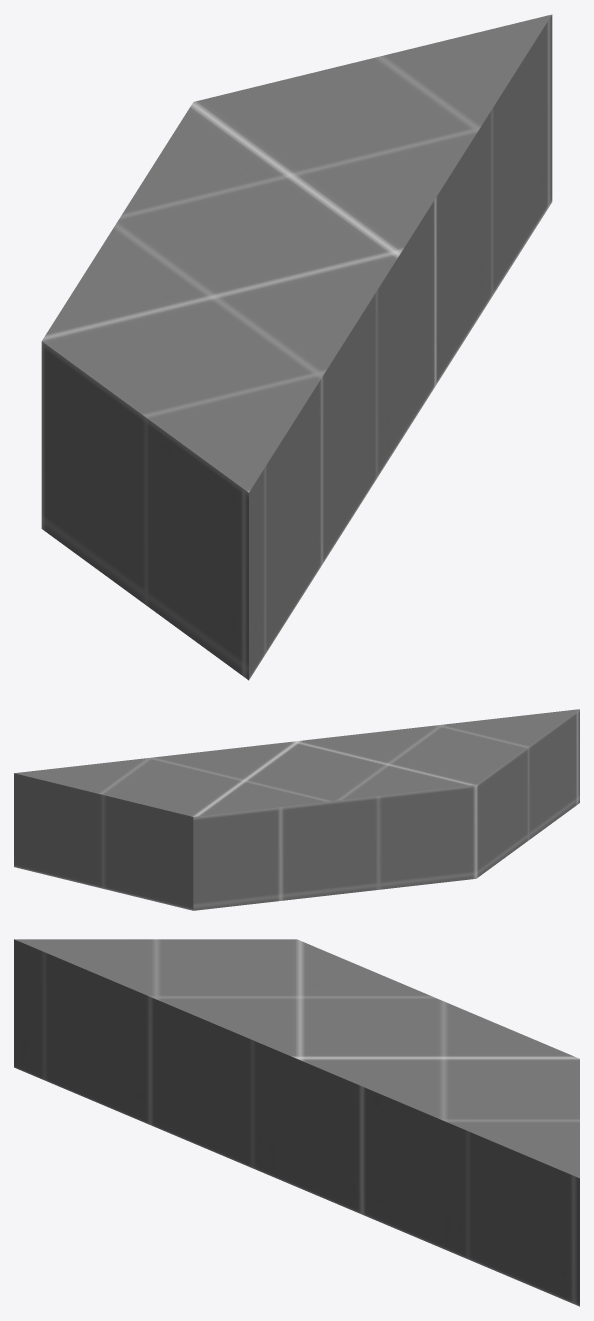
File: BlockAngle_B.fbx
The picture shows the model from 3 angles, top to bottom: view 1: azimuth 30°, elevation 25°; view 2: azimuth 150°, elevation 25°; view 3: azimuth 270°, elevation 25°; orthographic projection. The views are drawn at different scales.
Parts seen in each view (by area): view 1: Plateforme_B1; view 2: Plateforme_B1; view 3: Plateforme_B1.
Boxes of the visible parts, bbox=[...] form: Plateforme_B1: bbox=[41, 14, 552, 680]; Plateforme_B1: bbox=[14, 709, 579, 910]; Plateforme_B1: bbox=[14, 939, 579, 1306].
Bounding box in the file's own units: 16 × 16 × 4.
1 material, 1 textured.
